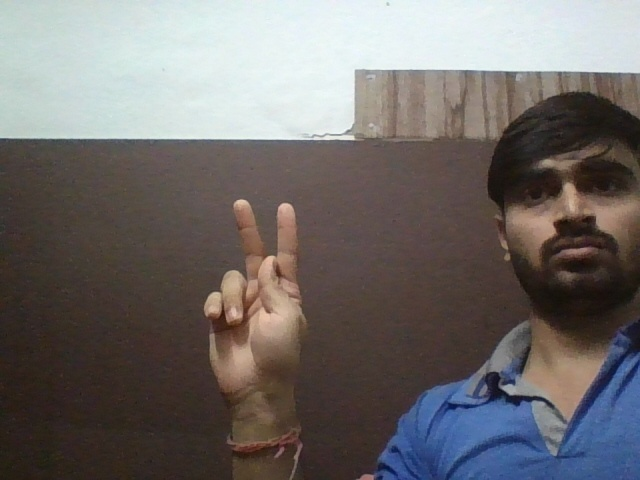K: (192, 195, 312, 406)
